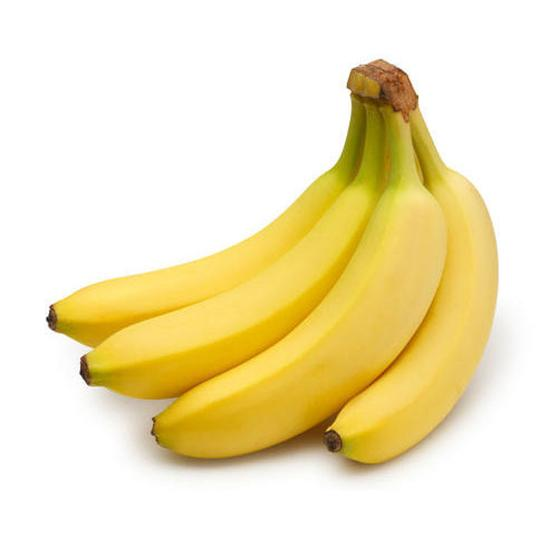banana: (149, 86, 457, 474)
